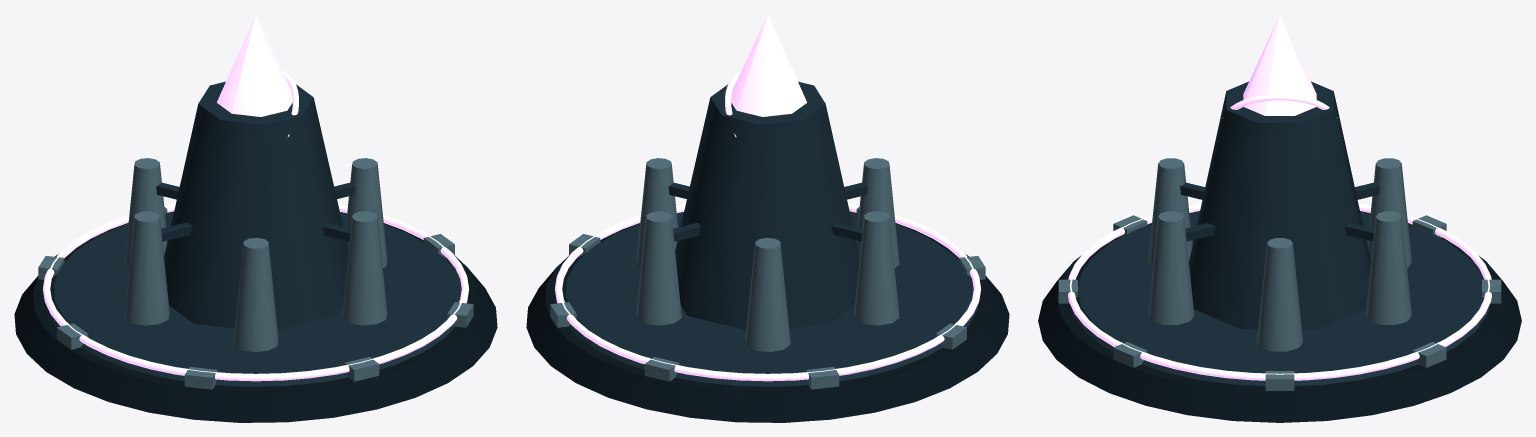
Rendered from naniteFactory.glb.
3 views of the same model, side by side, from view 1: azimuth 30°, elevation 25°; view 2: azimuth 150°, elevation 25°; view 3: azimuth 270°, elevation 25° (orthographic).
Parts seen in each view (by area): view 1: assembler-spire, upper-deck, armored-foundation, perimeter-light, nanite-crown, assembler-pylon-1, assembler-pylon-3, assembler-pylon-2, assembler-pylon-4, assembler-pylon-0, buttress-2, buttress-3 (+2 smaller); view 2: assembler-spire, upper-deck, armored-foundation, perimeter-light, nanite-crown, assembler-pylon-5, assembler-pylon-3, assembler-pylon-4, assembler-pylon-2, assembler-pylon-0, buttress-6, buttress-5 (+2 smaller); view 3: assembler-spire, upper-deck, armored-foundation, perimeter-light, assembler-pylon-0, assembler-pylon-1, assembler-pylon-5, nanite-crown, assembler-pylon-2, assembler-pylon-4, field-ring-3, buttress-1 (+2 smaller).
Boxes of the visible parts, x1=… form: assembler-spire: x1=164, y1=81, x2=348, y2=329; upper-deck: x1=45, y1=212, x2=467, y2=386; armored-foundation: x1=14, y1=211, x2=497, y2=422; perimeter-light: x1=43, y1=203, x2=468, y2=381; nanite-crown: x1=217, y1=14, x2=292, y2=116; assembler-pylon-1: x1=342, y1=211, x2=387, y2=325; assembler-pylon-3: x1=124, y1=211, x2=169, y2=325; assembler-pylon-2: x1=233, y1=237, x2=278, y2=351; assembler-pylon-4: x1=124, y1=158, x2=167, y2=267; assembler-pylon-0: x1=346, y1=158, x2=387, y2=267; buttress-2: x1=344, y1=357, x2=379, y2=381; buttress-3: x1=184, y1=367, x2=217, y2=389; assembler-spire: x1=675, y1=81, x2=859, y2=329; upper-deck: x1=556, y1=212, x2=978, y2=386; armored-foundation: x1=526, y1=211, x2=1009, y2=422; perimeter-light: x1=555, y1=203, x2=980, y2=381; nanite-crown: x1=731, y1=14, x2=806, y2=116; assembler-pylon-5: x1=636, y1=211, x2=681, y2=325; assembler-pylon-3: x1=854, y1=211, x2=899, y2=325; assembler-pylon-4: x1=745, y1=237, x2=790, y2=351; assembler-pylon-2: x1=856, y1=158, x2=899, y2=267; assembler-pylon-0: x1=636, y1=158, x2=677, y2=267; buttress-6: x1=644, y1=357, x2=679, y2=381; buttress-5: x1=806, y1=367, x2=839, y2=389; assembler-spire: x1=1189, y1=81, x2=1370, y2=329; upper-deck: x1=1070, y1=211, x2=1489, y2=386; armored-foundation: x1=1038, y1=211, x2=1521, y2=422; perimeter-light: x1=1068, y1=203, x2=1491, y2=380; assembler-pylon-0: x1=1256, y1=238, x2=1303, y2=351; assembler-pylon-1: x1=1148, y1=211, x2=1194, y2=324; assembler-pylon-5: x1=1365, y1=211, x2=1411, y2=324; nanite-crown: x1=1243, y1=14, x2=1316, y2=115; assembler-pylon-2: x1=1148, y1=158, x2=1192, y2=268; assembler-pylon-4: x1=1367, y1=158, x2=1411, y2=268; field-ring-3: x1=1222, y1=94, x2=1337, y2=118; buttress-1: x1=1113, y1=342, x2=1147, y2=367.
Size of the model in its own units: 10.4 by 7.27 by 10.4.
